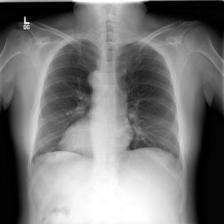normal: (31, 33, 187, 175)
